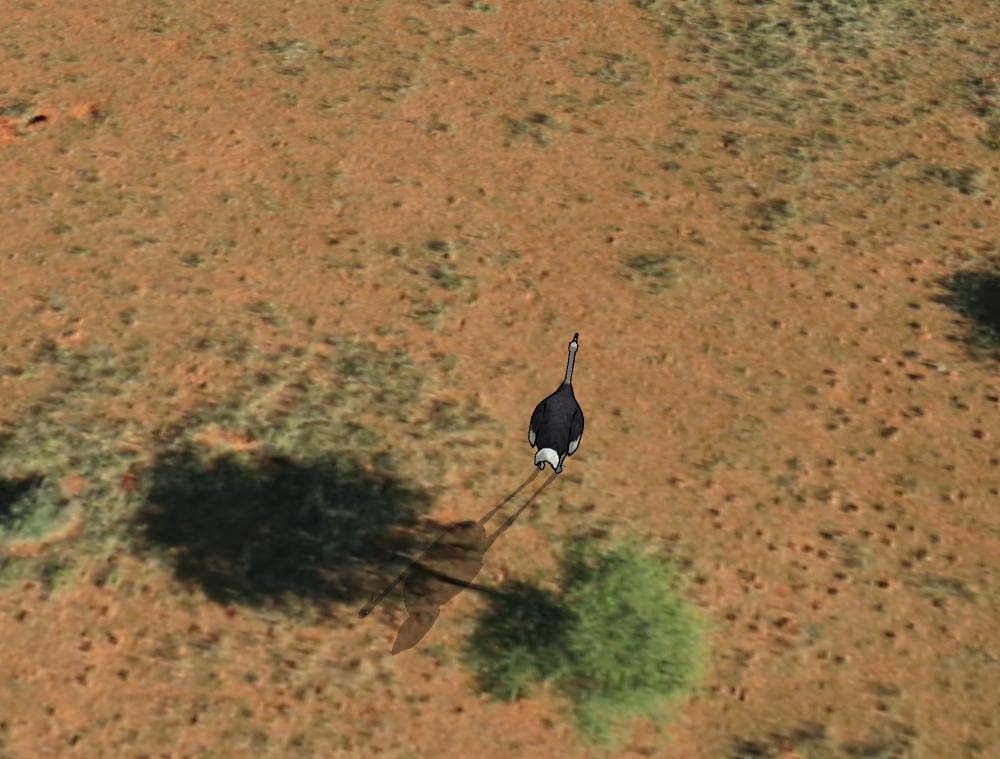ostrich: (524, 329, 596, 476)
